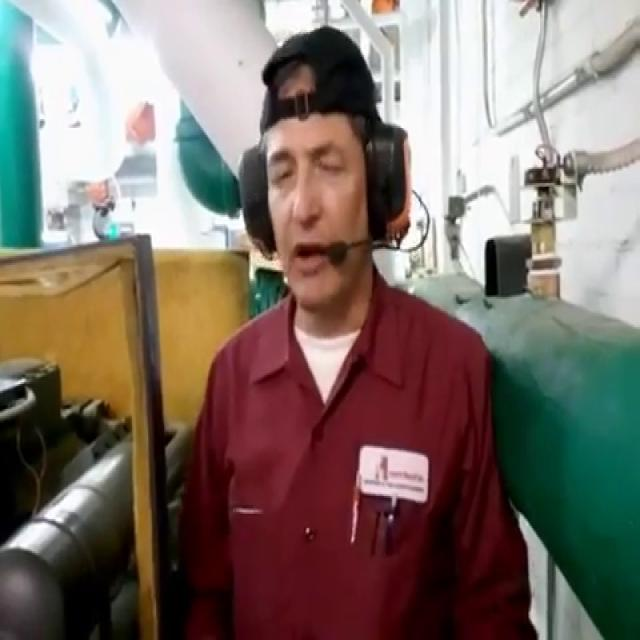earmuff: (362, 120, 418, 250), (232, 144, 281, 264)
